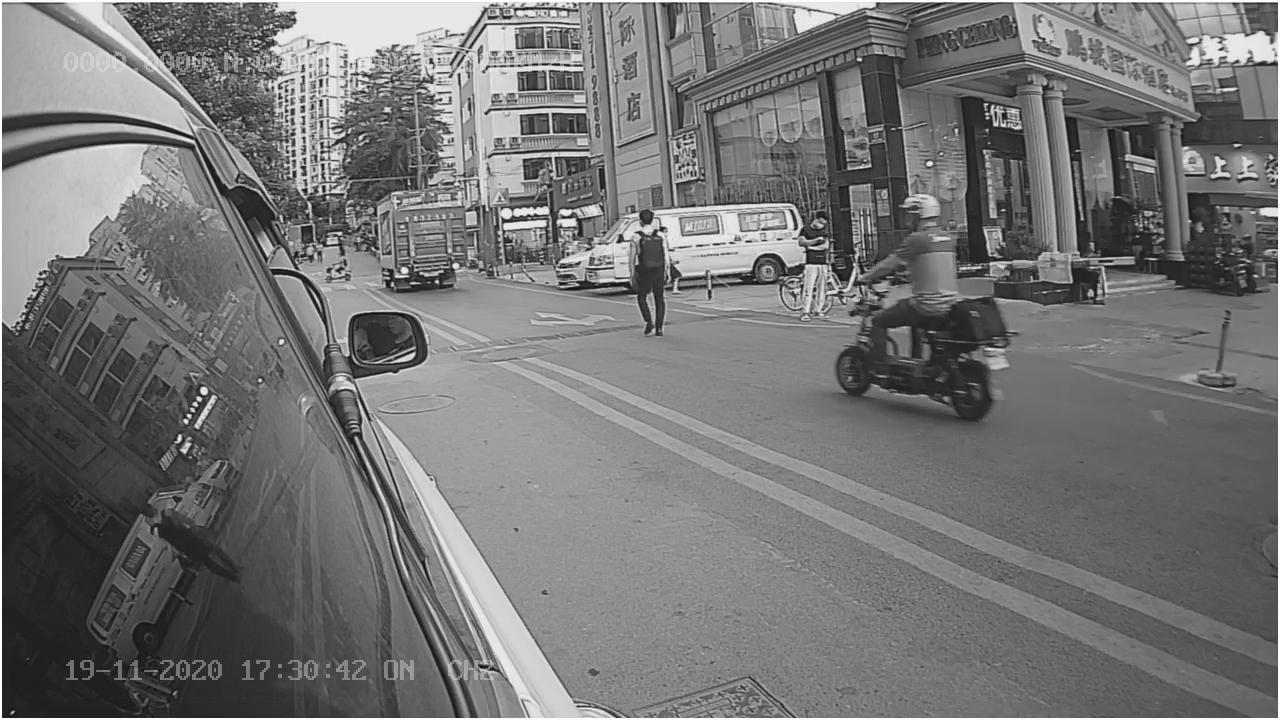person: (859, 191, 965, 302)
